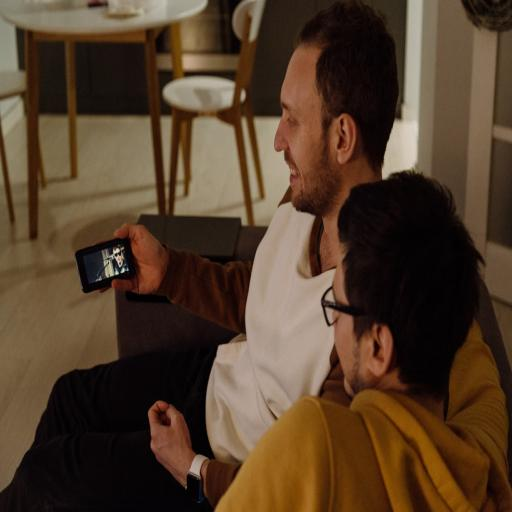face: (275, 46, 340, 216), (333, 311, 366, 397)
